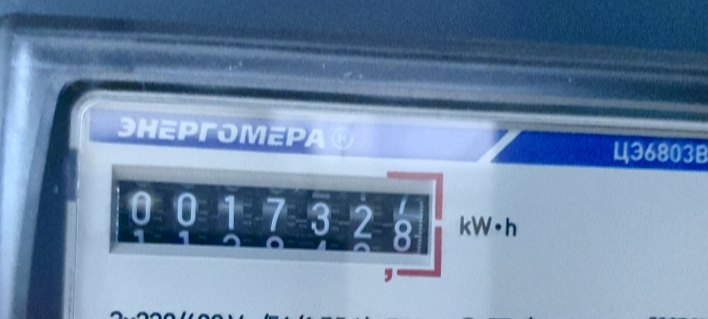0: (128, 187, 154, 227), (175, 189, 199, 228)
1: (220, 191, 239, 231)
2: (351, 202, 374, 240)
3: (310, 200, 332, 236)
7: (264, 194, 287, 233)
8: (392, 216, 412, 252)
screen: (98, 161, 454, 284)
